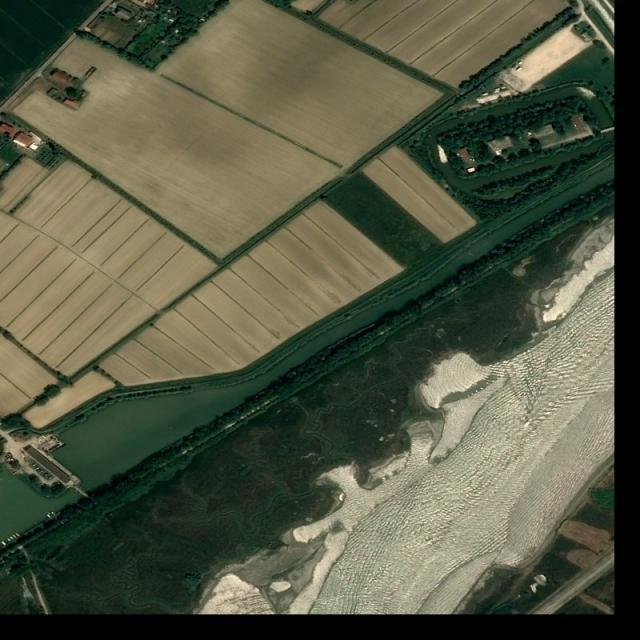ship: (522, 417, 534, 430)
